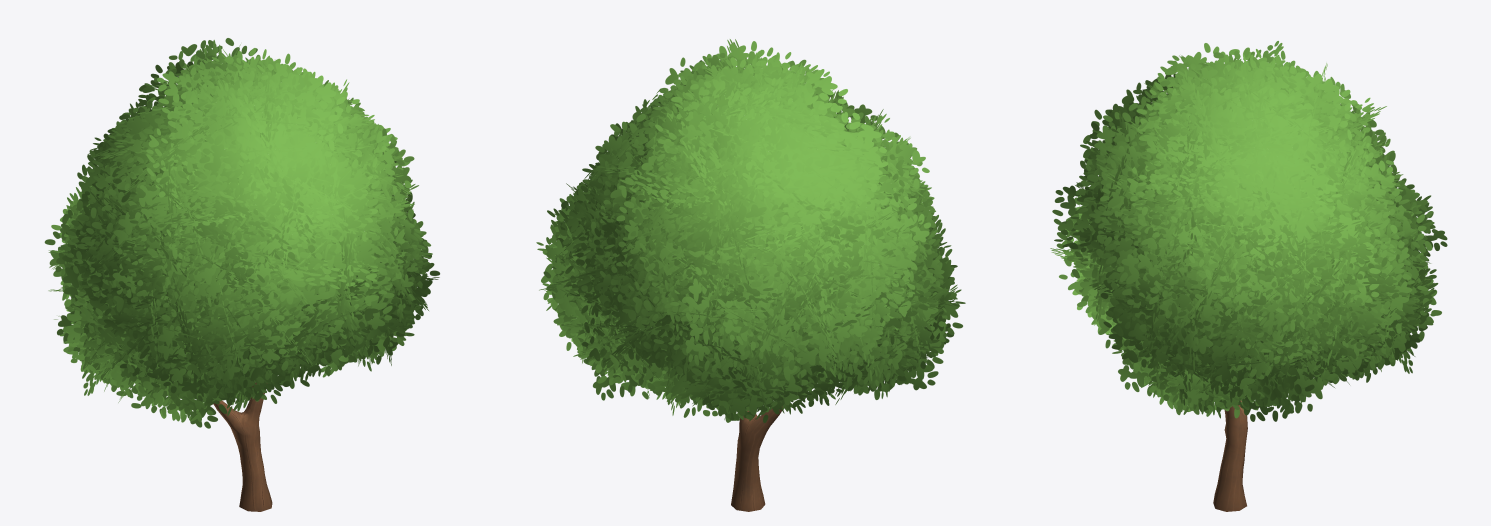
Rendered from tree.glb.
3 renders of one model, left to right at view 1: azimuth 30°, elevation 25°; view 2: azimuth 150°, elevation 25°; view 3: azimuth 270°, elevation 25°, orthographic.
Visible parts, largest first — view 1: Tree_01_LOD0; view 2: Tree_01_LOD0; view 3: Tree_01_LOD0.
Part boxes in pixels (x1=…): Tree_01_LOD0: x1=44, y1=38, x2=440, y2=511; Tree_01_LOD0: x1=536, y1=39, x2=965, y2=511; Tree_01_LOD0: x1=1050, y1=41, x2=1447, y2=511.
Size of what is drawn, in the model's own units: 0.1108 by 0.1187 by 0.1033.
Materials: 2 (2 with a texture image).
